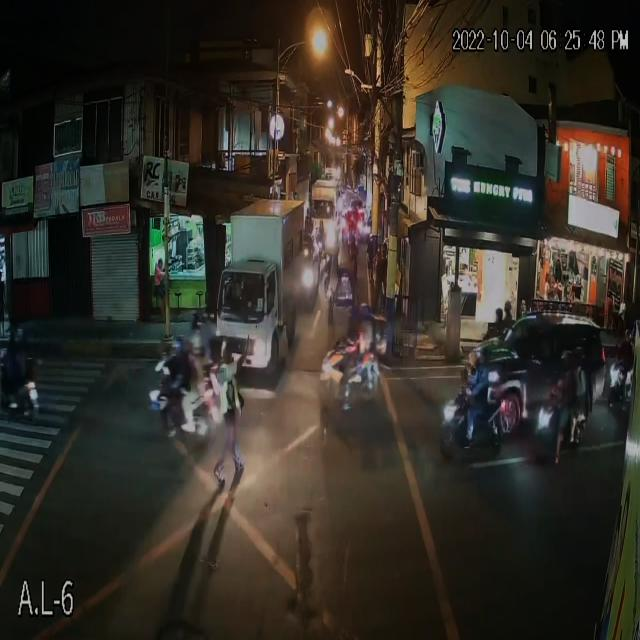Full-Faced: (466, 348, 480, 382), (558, 347, 573, 375), (570, 344, 586, 369)
